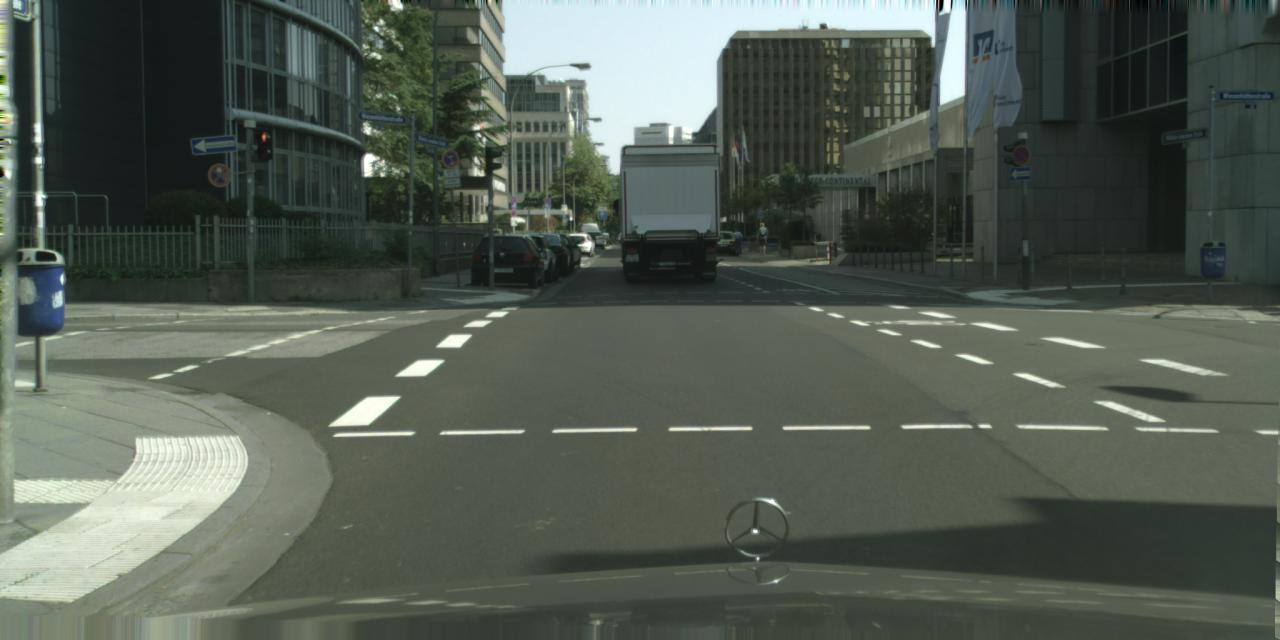ped: (755, 223, 768, 255), (732, 228, 742, 253)
